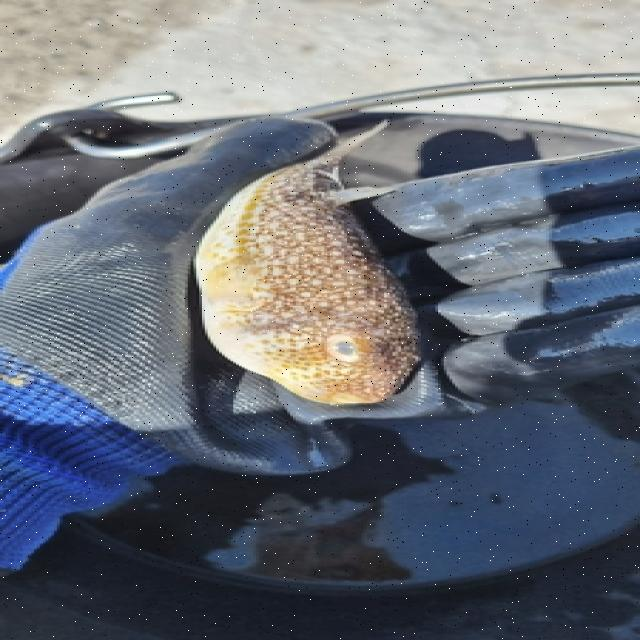Balik: (197, 123, 418, 404)
